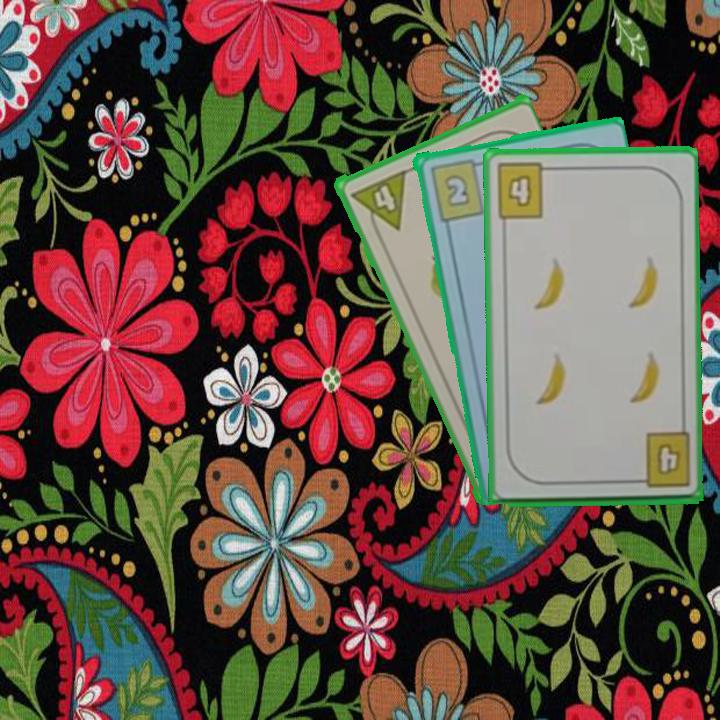2b: (426, 155, 488, 224)
4b: (628, 429, 693, 491), (492, 160, 556, 221)
4p: (346, 167, 409, 240)
